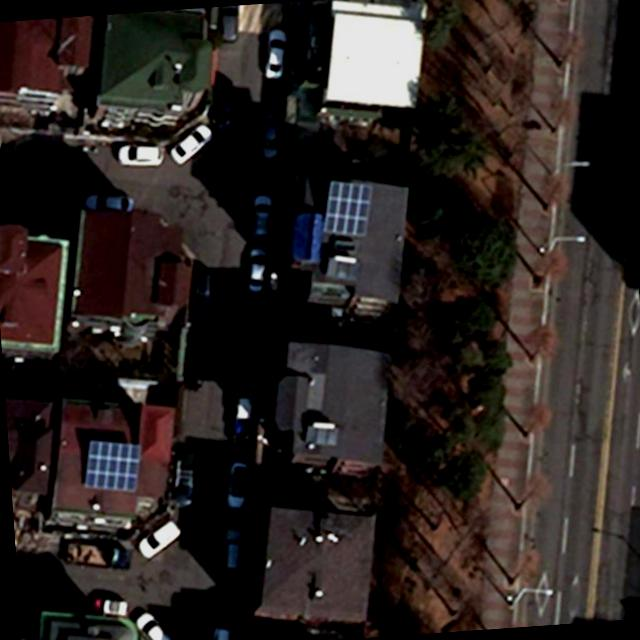solar: (76, 433, 146, 498), (318, 172, 379, 240)
